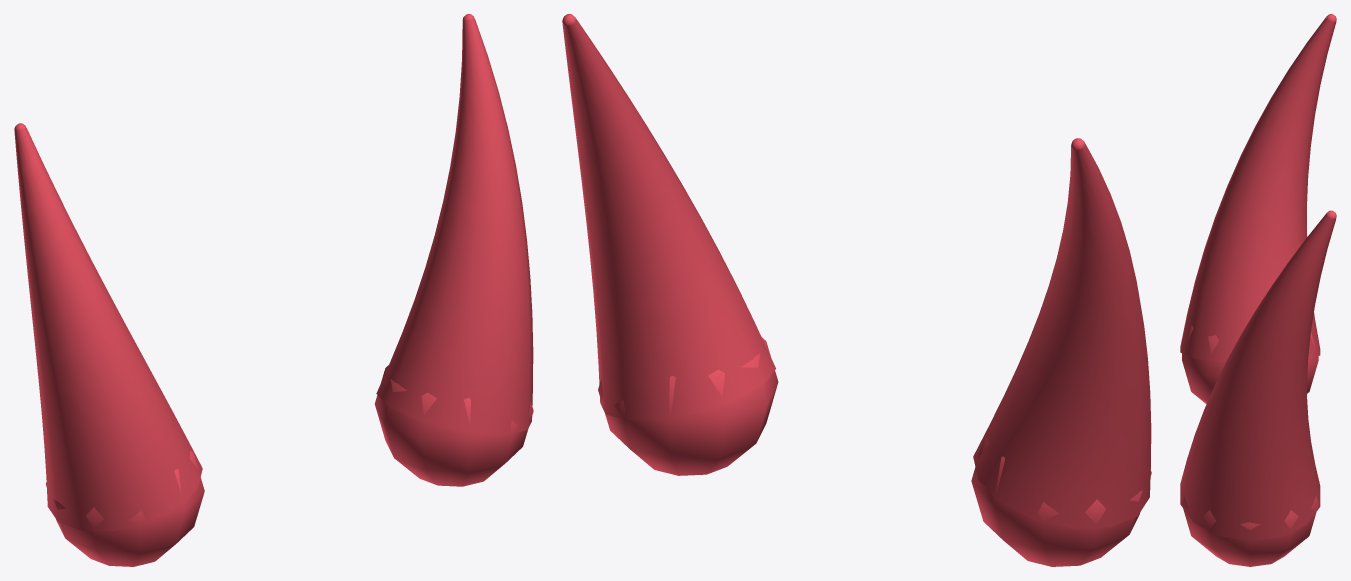
The model's file is devil-horns.glb.
3 renders of one model, left to right at view 1: azimuth 30°, elevation 25°; view 2: azimuth 150°, elevation 25°; view 3: azimuth 270°, elevation 25°, orthographic. The views are drawn at different scales.
Size of the model in its own units: 11.1 by 9.23 by 3.48.
